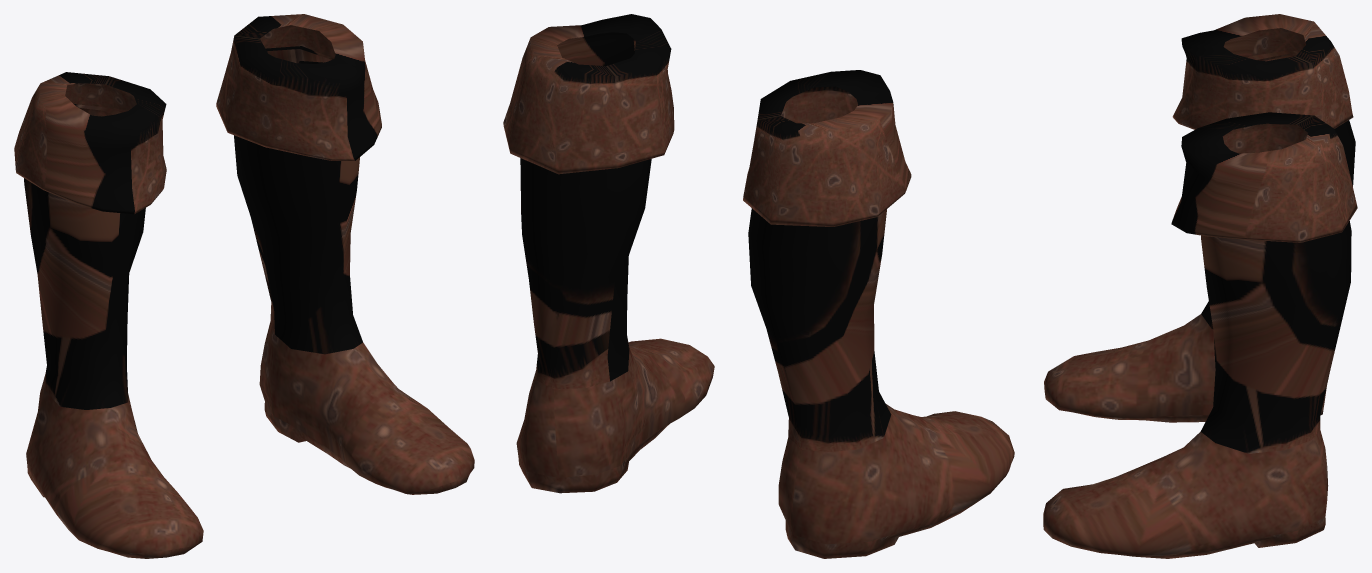
File: shoes.fbx
3 views of the same model, side by side, from view 1: azimuth 30°, elevation 25°; view 2: azimuth 150°, elevation 25°; view 3: azimuth 270°, elevation 25° (orthographic). The views are drawn at different scales.
Visible parts, largest first — view 1: shoes; view 2: shoes; view 3: shoes.
Boxes of the visible parts, left/top/right/bottom form: shoes: left=14, top=14, right=474, bottom=558; shoes: left=503, top=14, right=1014, bottom=558; shoes: left=1043, top=14, right=1357, bottom=558.
Size of the model in its own units: 46.98 by 46.23 by 33.65.
